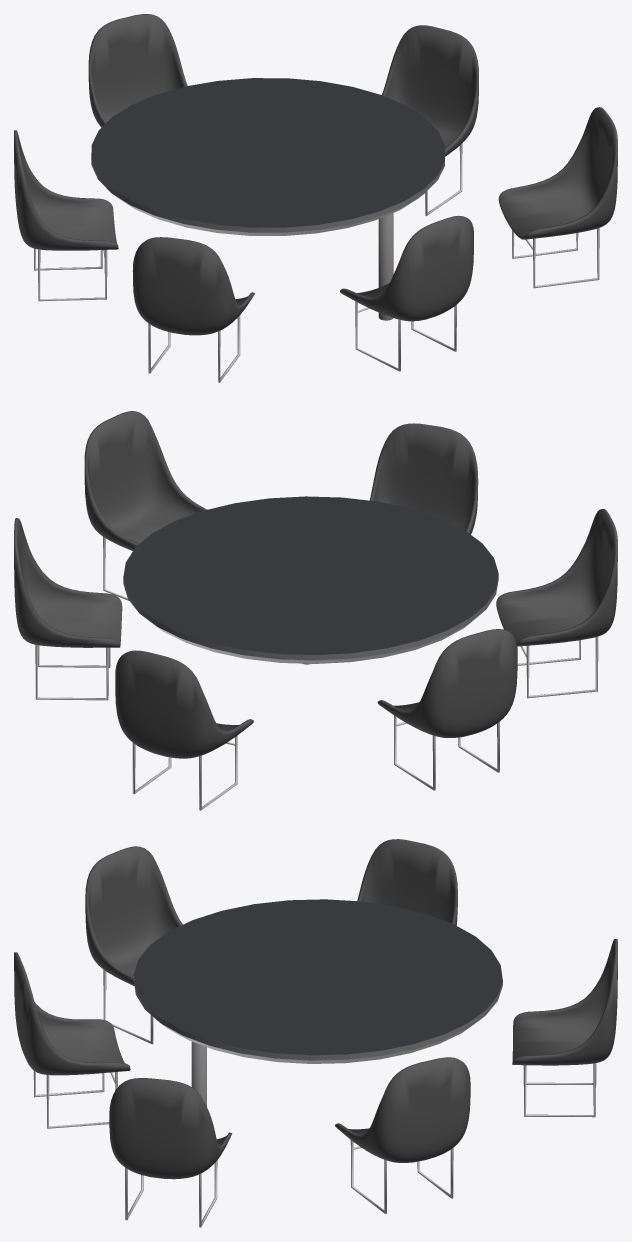
File: TalbeFromNewLobby.fbx
The picture shows the model from 3 angles, top to bottom: view 1: azimuth 30°, elevation 25°; view 2: azimuth 150°, elevation 25°; view 3: azimuth 270°, elevation 25°; orthographic projection. The views are drawn at different scales.
Visible parts, largest first — view 1: metal_p.001; view 2: metal_p.001; view 3: metal_p.001.
Boxes of the visible parts, x1,y1,x2,y2 form: metal_p.001: (14, 14, 617, 382); metal_p.001: (14, 411, 617, 810); metal_p.001: (14, 839, 617, 1227).
Size of the model in its own units: 389 by 127 by 400.
